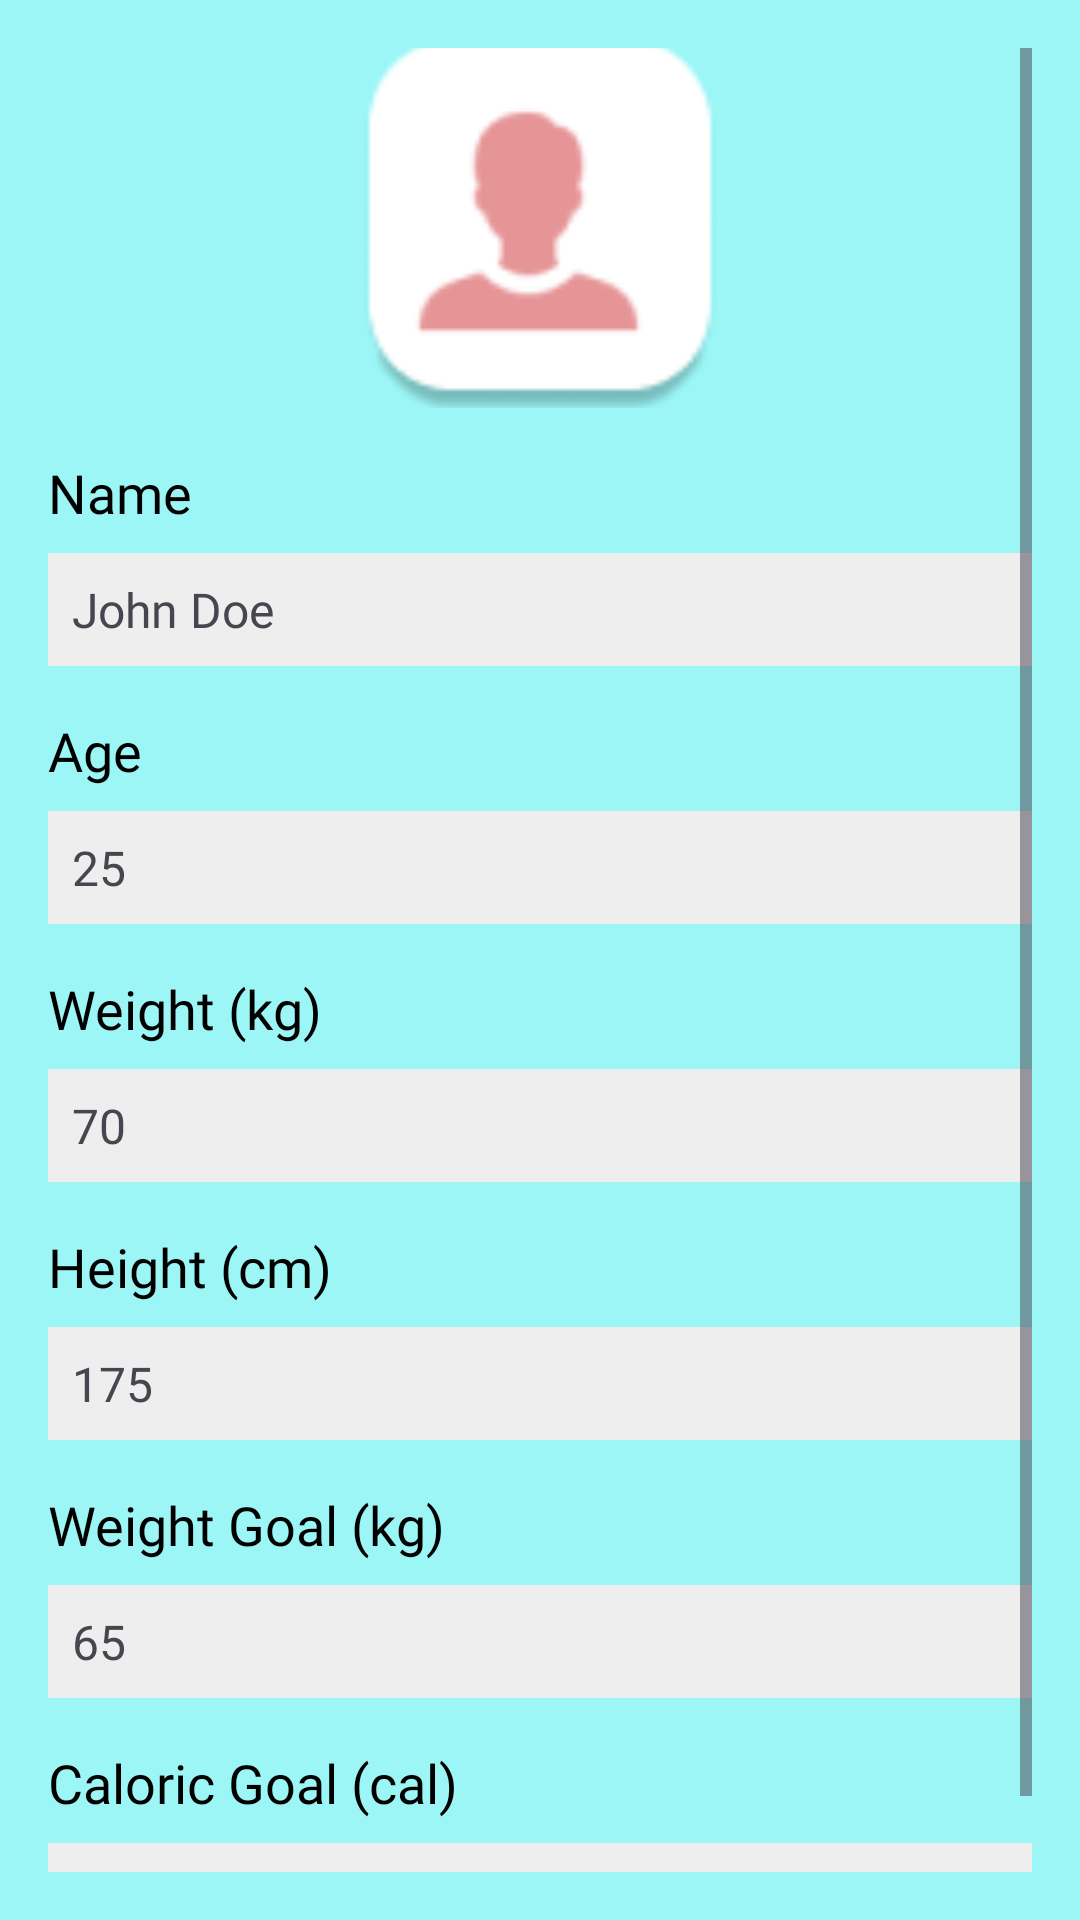

Screen size 1080x1920. Icon name, then its center in pixels as point (x, y):
Profile Image: point (540, 227)
